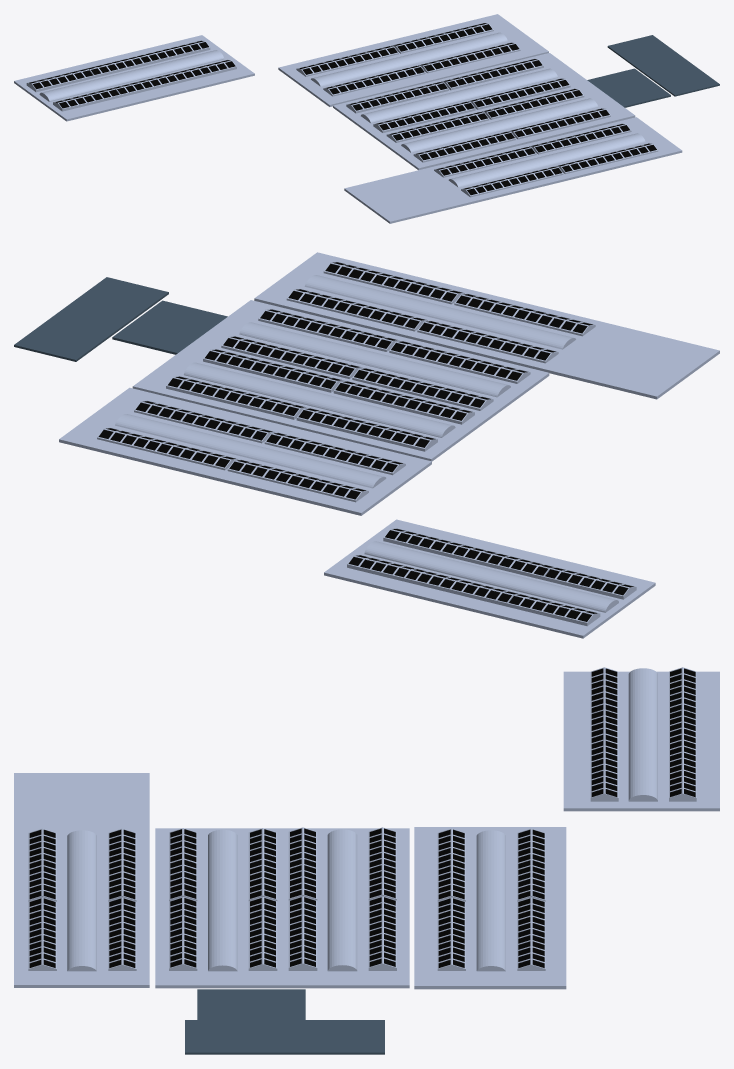
Rendered from roof.glb.
3 views of the same model, one above another, from view 1: azimuth 30°, elevation 25°; view 2: azimuth 150°, elevation 25°; view 3: azimuth 270°, elevation 25° (orthographic). The views are drawn at different scales.
Visible parts, largest first — view 1: Cube.184, Cube.660, Cube.657, Cube.665, Cube.658, Cube.081, Cube.668, Cube.090, Cube.666, roof, Cylinder.020, Cylinder.018 (+4 smaller); view 2: Cube.184, Cube.660, Cube.657, Cube.665, Cube.658, Cube.081, Cube.668, Cube.090, Cube.666, roof, Cylinder.020, Cylinder.018 (+4 smaller); view 3: Cube.184, Cube.660, Cube.657, Cube.658, Cube.665, Cube.081, Cube.666, Cube.090, Cube.668, roof, Cylinder.020, Cylinder.018 (+4 smaller).
Part boxes in pixels (x1=…): Cube.184: x1=344, y1=117, x2=682, y2=223; Cube.660: x1=333, y1=53, x2=635, y2=170; Cube.657: x1=278, y1=14, x2=548, y2=106; Cube.665: x1=346, y1=58, x2=570, y2=132; Cube.658: x1=14, y1=35, x2=254, y2=121; Cube.081: x1=386, y1=88, x2=610, y2=162; Cube.668: x1=26, y1=40, x2=236, y2=111; Cube.090: x1=434, y1=123, x2=658, y2=197; Cube.666: x1=296, y1=23, x2=520, y2=96; roof: x1=607, y1=35, x2=719, y2=96; Cylinder.020: x1=361, y1=68, x2=557, y2=123; Cylinder.018: x1=401, y1=98, x2=597, y2=152; Cube.184: x1=254, y1=252, x2=719, y2=399; Cube.660: x1=132, y1=300, x2=549, y2=461; Cube.657: x1=59, y1=387, x2=431, y2=515; Cube.665: x1=166, y1=349, x2=474, y2=451; Cube.658: x1=324, y1=519, x2=655, y2=638; Cube.081: x1=221, y1=309, x2=530, y2=410; Cube.668: x1=347, y1=528, x2=636, y2=626; Cube.090: x1=286, y1=261, x2=595, y2=363; Cube.666: x1=97, y1=400, x2=405, y2=502; roof: x1=14, y1=277, x2=168, y2=361; Cylinder.020: x1=184, y1=362, x2=455, y2=437; Cylinder.018: x1=239, y1=322, x2=510, y2=397; Cube.184: x1=14, y1=773, x2=149, y2=987; Cube.660: x1=155, y1=828, x2=409, y2=988; Cube.657: x1=414, y1=827, x2=566, y2=989; Cube.658: x1=563, y1=671, x2=719, y2=811; Cube.665: x1=288, y1=827, x2=396, y2=970; Cube.081: x1=169, y1=828, x2=277, y2=970; Cube.666: x1=437, y1=828, x2=545, y2=970; Cube.090: x1=28, y1=828, x2=136, y2=970; Cube.668: x1=590, y1=667, x2=696, y2=801; roof: x1=185, y1=1020, x2=384, y2=1054; Cylinder.020: x1=327, y1=829, x2=357, y2=971; Cylinder.018: x1=208, y1=829, x2=237, y2=971.
Bounding box in the file's own units: 85.98 × 1.53 × 67.29.
